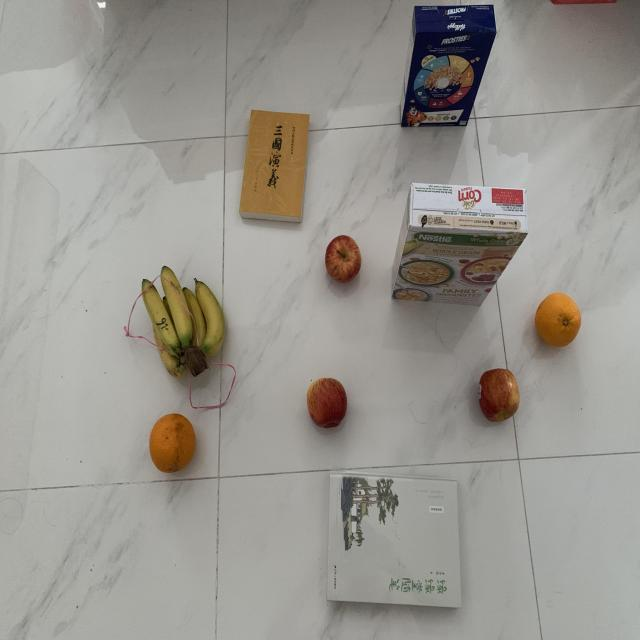Apple: (474, 365, 521, 429), (304, 373, 350, 432), (321, 233, 367, 284)
Banana: (135, 265, 232, 386)
Book: (324, 469, 466, 615), (236, 107, 314, 228)
Cerealbox: (381, 180, 531, 315), (398, 4, 499, 130)
Orange: (148, 412, 200, 475), (532, 291, 584, 349)
